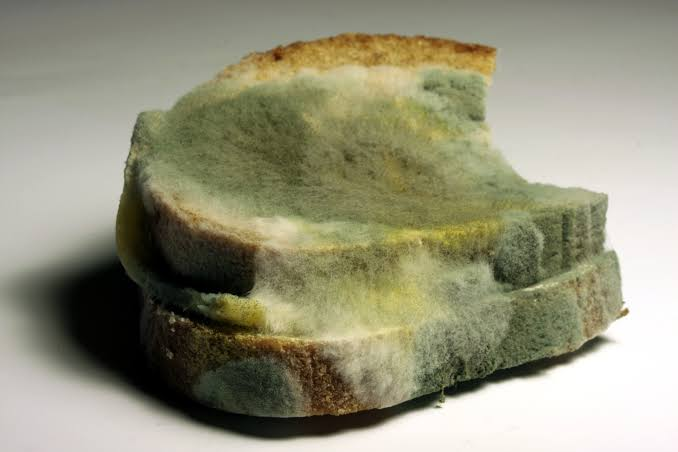Penicillium: (143, 102, 459, 214), (281, 238, 501, 393), (494, 194, 623, 341)
